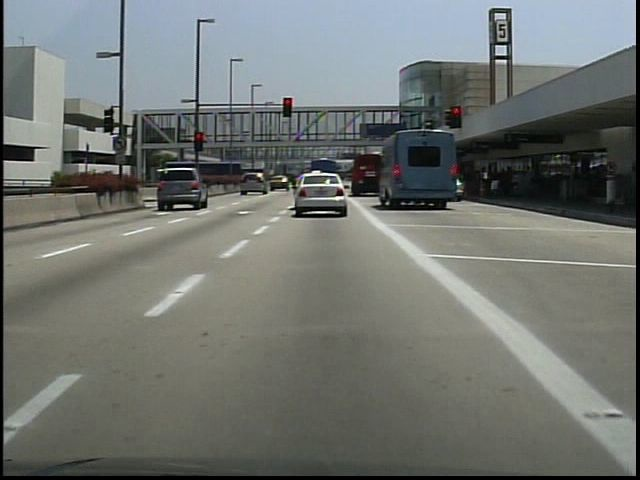person: (488, 166, 502, 205)
